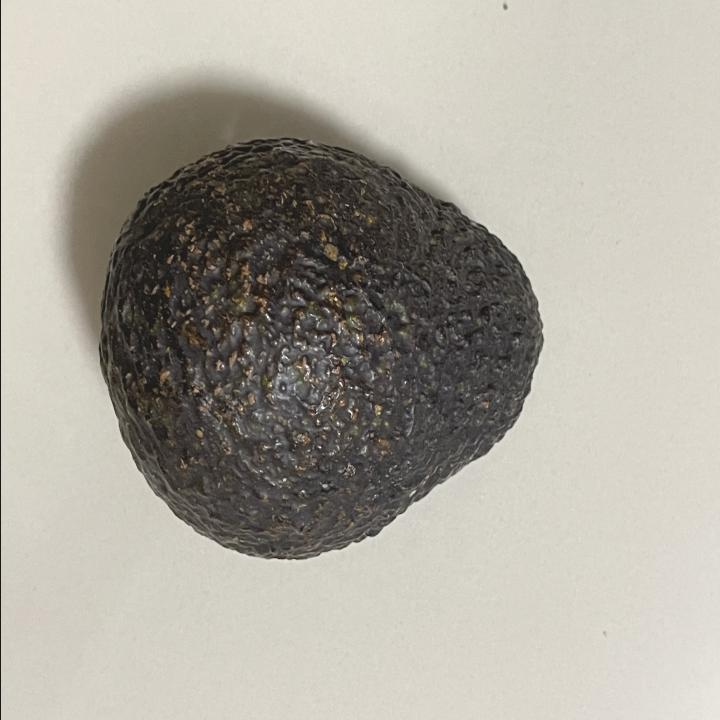Level1: (83, 119, 558, 581)
